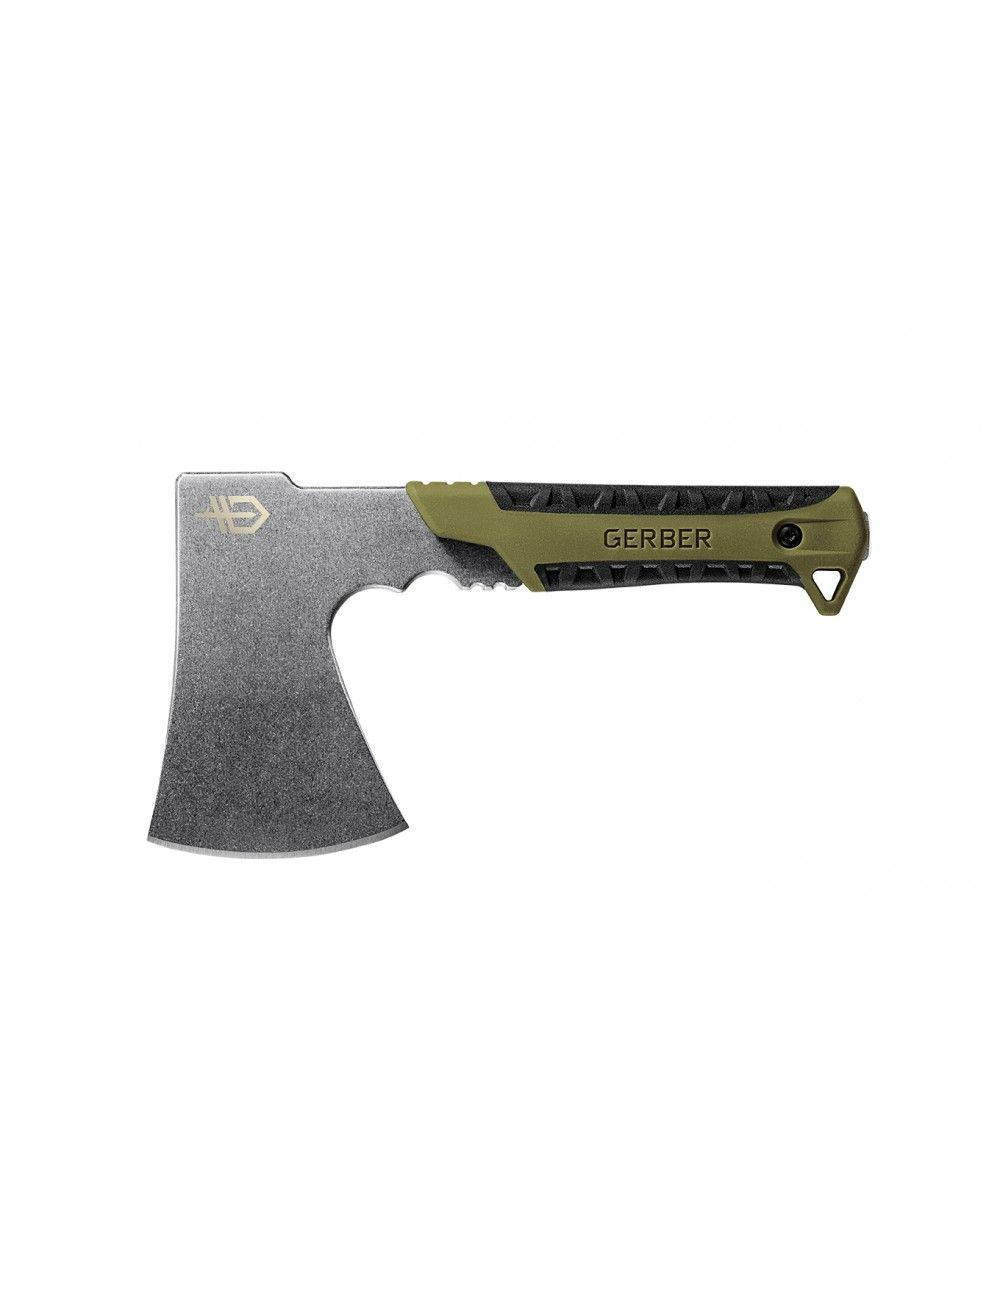machado: (148, 473, 868, 856)
